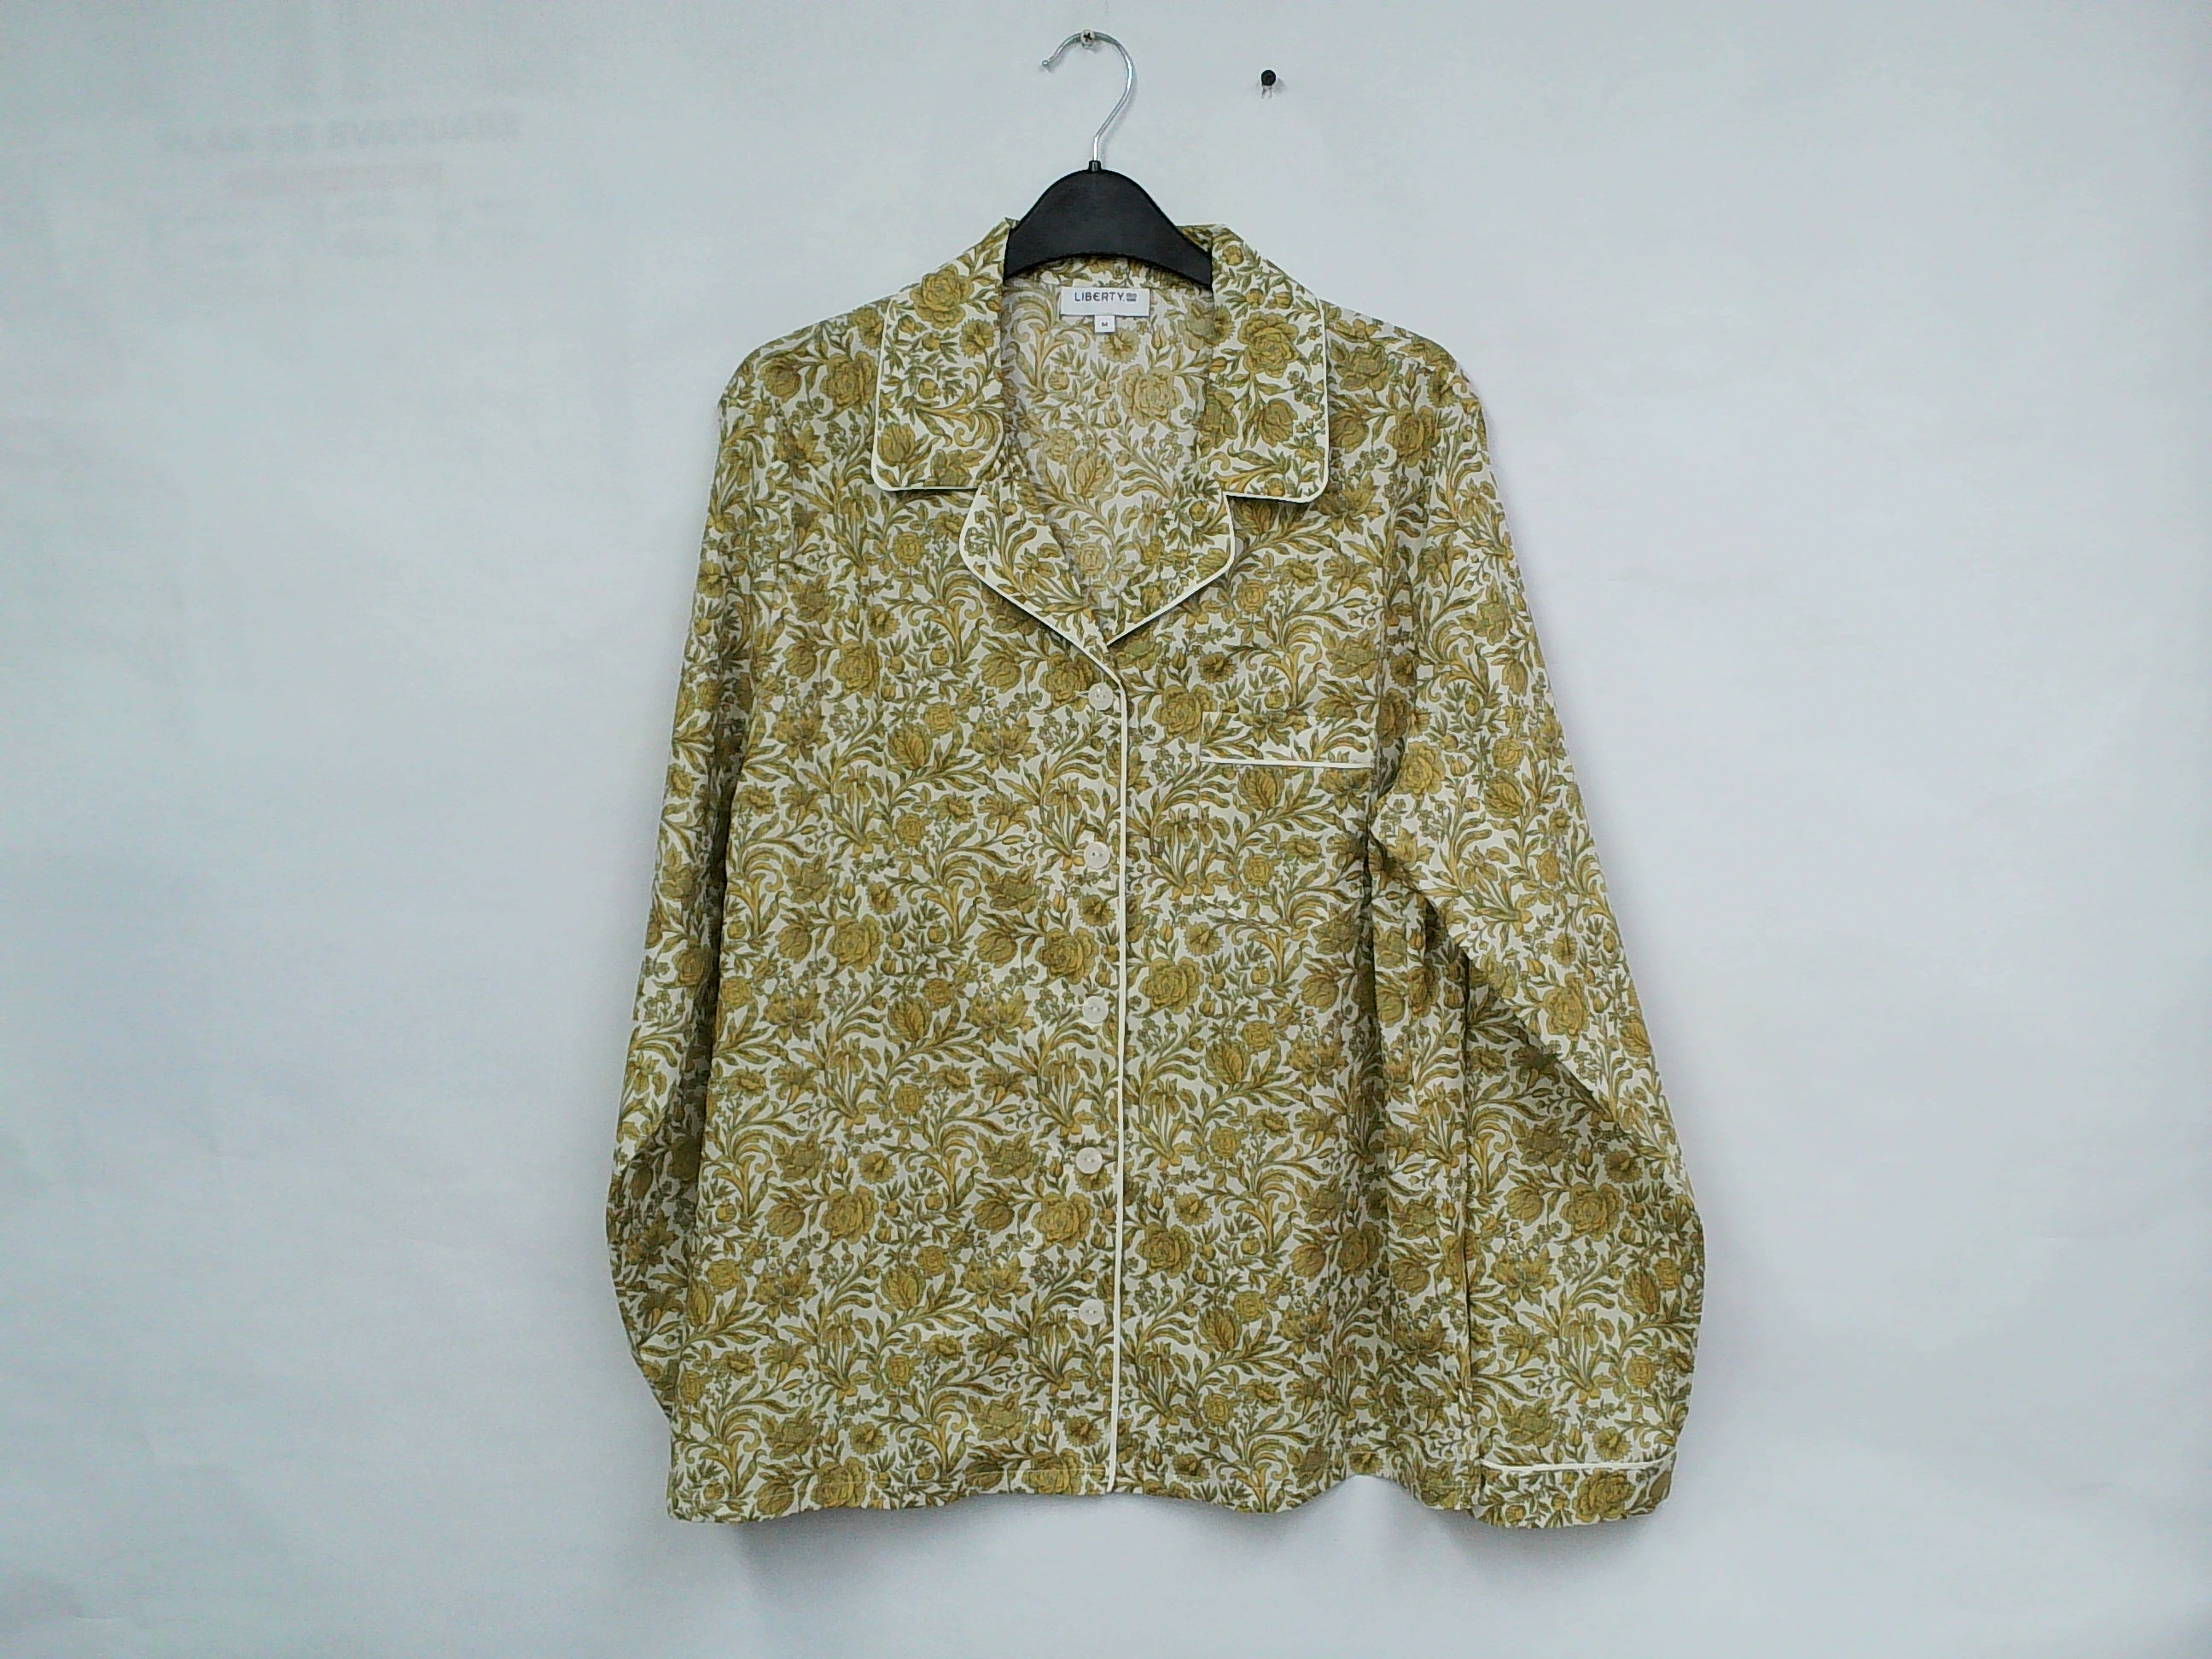wrinkles: (1336, 335, 1486, 875)
